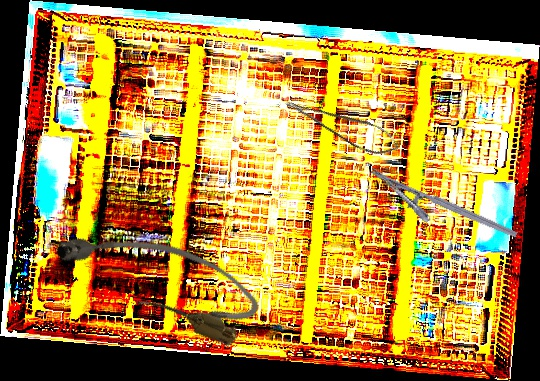Cannula: (48, 200, 268, 353)
Micro Scissor: (283, 80, 404, 167)
Needle Holder: (360, 166, 519, 259)
